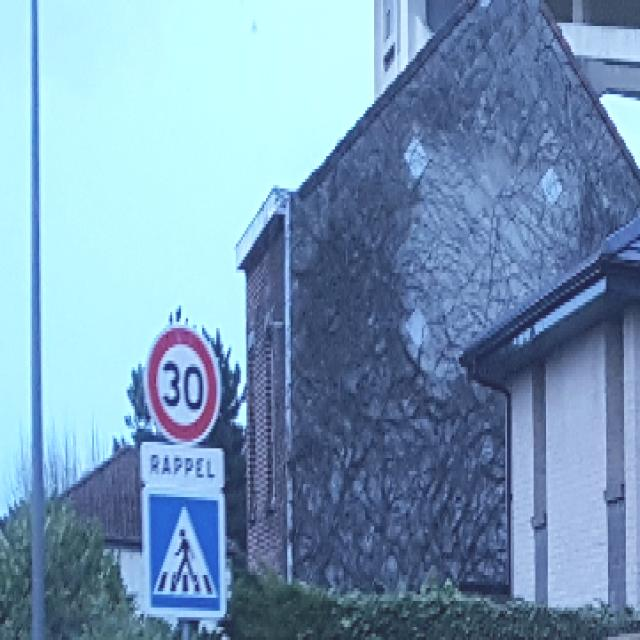speed_30: (146, 326, 220, 444)
